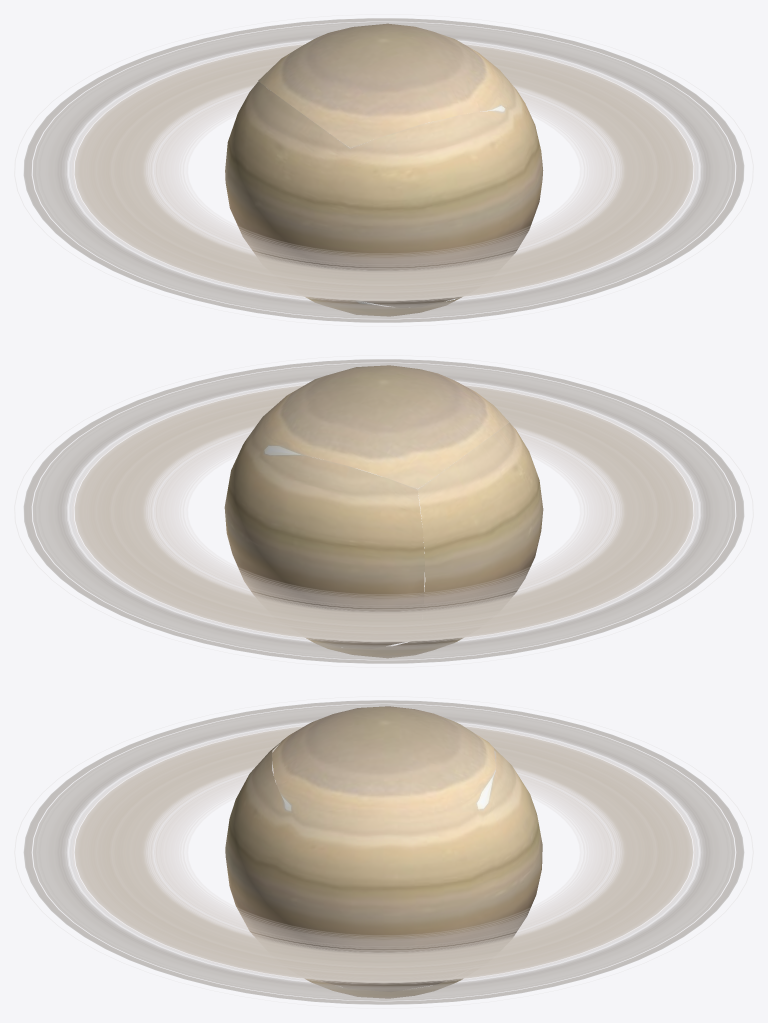
File: saturn-small.glb
3 views of the same model, one above another, from view 1: azimuth 30°, elevation 25°; view 2: azimuth 150°, elevation 25°; view 3: azimuth 270°, elevation 25° (orthographic).
Parts seen in each view (by area): view 1: Rings, Body; view 2: Rings, Body; view 3: Rings, Body.
Boxes of the visible parts, box(x1,y1,x2,y2) form: Rings: box(23, 18, 744, 322); Body: box(225, 23, 543, 316); Rings: box(23, 359, 744, 663); Body: box(224, 365, 543, 658); Rings: box(23, 700, 744, 1004); Body: box(225, 706, 542, 998).
Size of the model in its own units: 4.66 by 1.81 by 4.66.
Materials: 2 (2 with a texture image).
